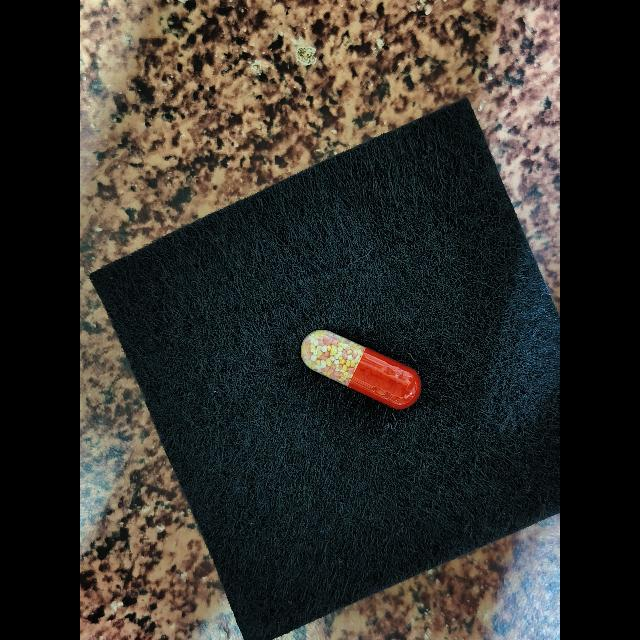Intact Capsule: (301, 329, 421, 409)
